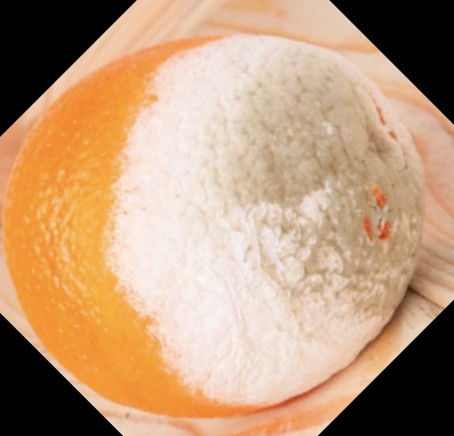rotten_orange: (1, 36, 423, 419)
